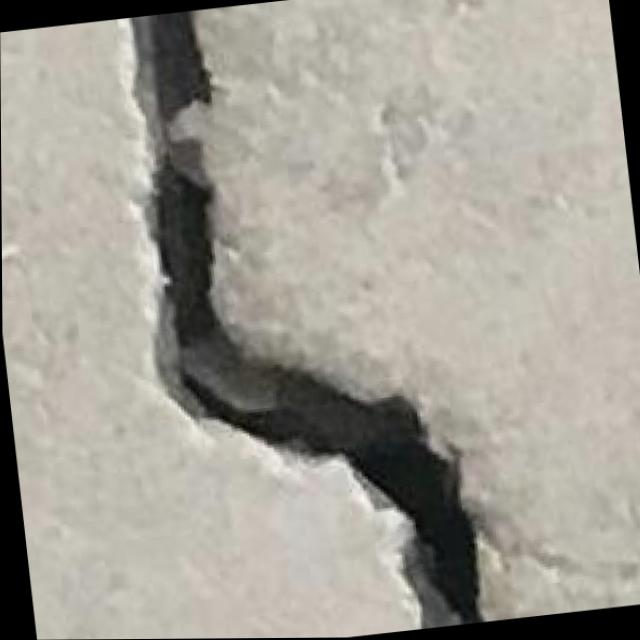Crack: (92, 0, 505, 639)
